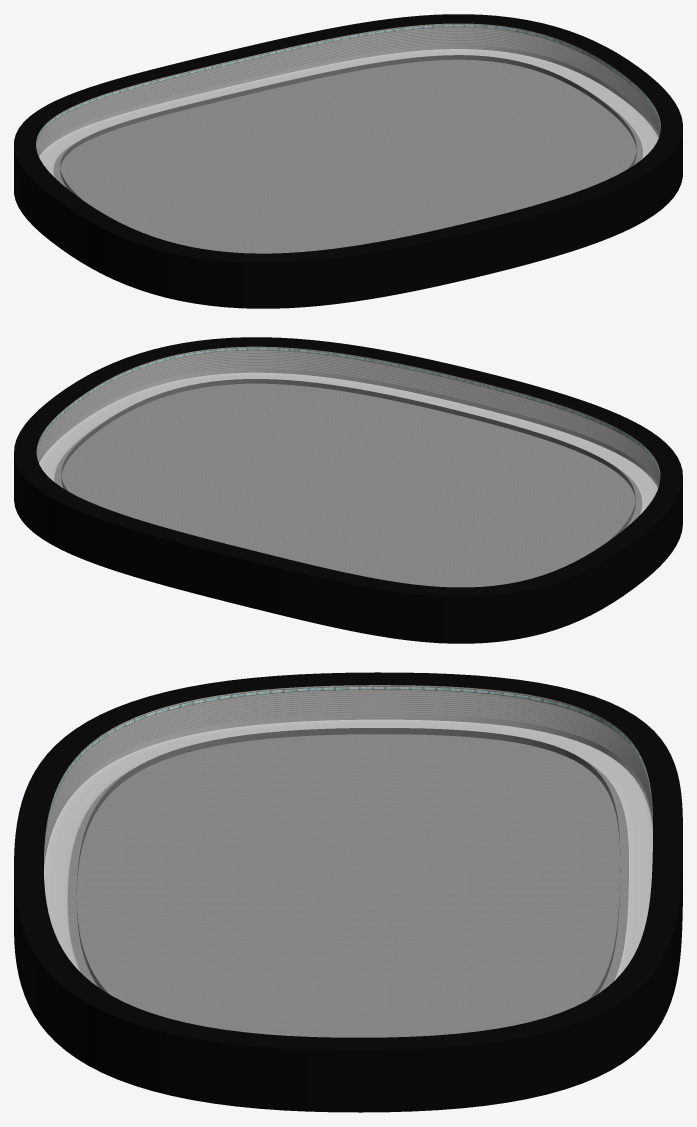
File: circuit.FBX
3 renders of one model, top to bottom at view 1: azimuth 30°, elevation 25°; view 2: azimuth 150°, elevation 25°; view 3: azimuth 270°, elevation 25°, orthographic. The views are drawn at different scales.
Parts seen in each view (by area): view 1: grass, shaders, Estrades, road, fence, Windows, cement; view 2: grass, shaders, Estrades, road, fence, Windows, cement; view 3: grass, shaders, road, Estrades, fence, Windows, cement.
Part boxes in pixels (box(x1,y1,x2,y2)): grass: box(53, 59, 642, 253); shaders: box(14, 14, 682, 308); Estrades: box(36, 27, 660, 153); road: box(39, 49, 658, 176); fence: box(60, 55, 636, 199); Windows: box(36, 23, 660, 145); cement: box(38, 45, 659, 156); grass: box(54, 383, 642, 587); shaders: box(14, 337, 682, 643); Estrades: box(36, 351, 660, 485); road: box(39, 372, 657, 514); fence: box(61, 379, 635, 540); Windows: box(36, 346, 660, 476); cement: box(38, 368, 658, 488); grass: box(68, 734, 628, 1037); shaders: box(14, 672, 682, 1112); road: box(44, 719, 652, 980); Estrades: box(44, 690, 652, 861); fence: box(76, 728, 620, 999); Windows: box(44, 685, 652, 857); cement: box(44, 714, 652, 866).
Size of the model in its own units: 42368 by 3247 by 31696.
